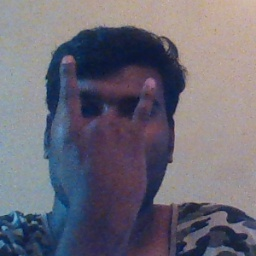V: (48, 51, 164, 215)
